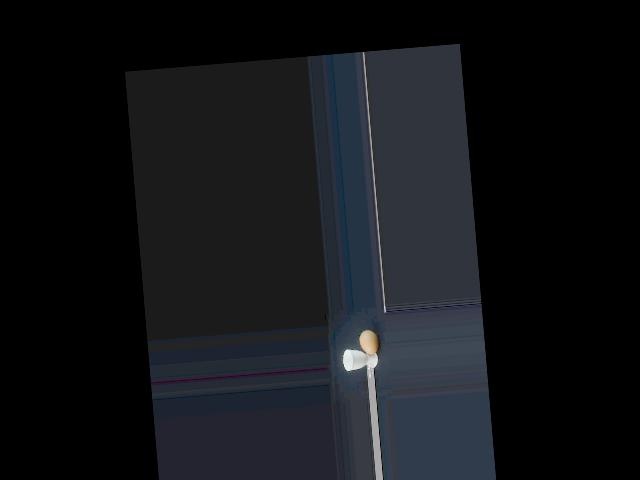egg: (358, 330, 378, 355)
